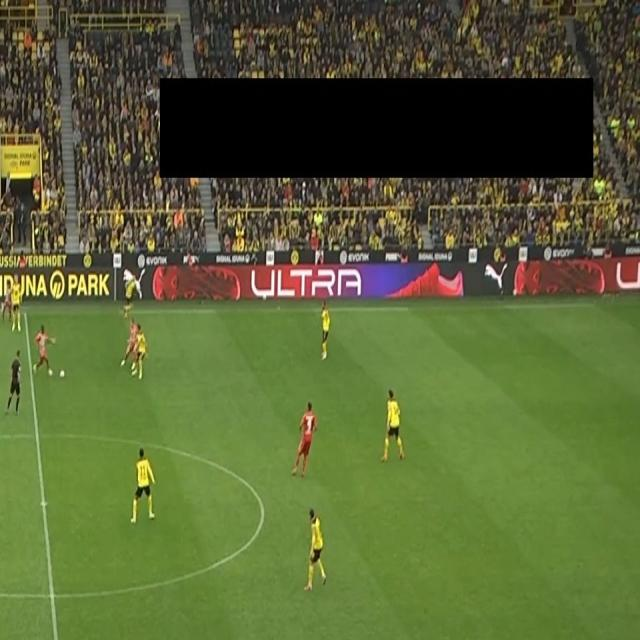ball: (58, 368, 66, 380)
